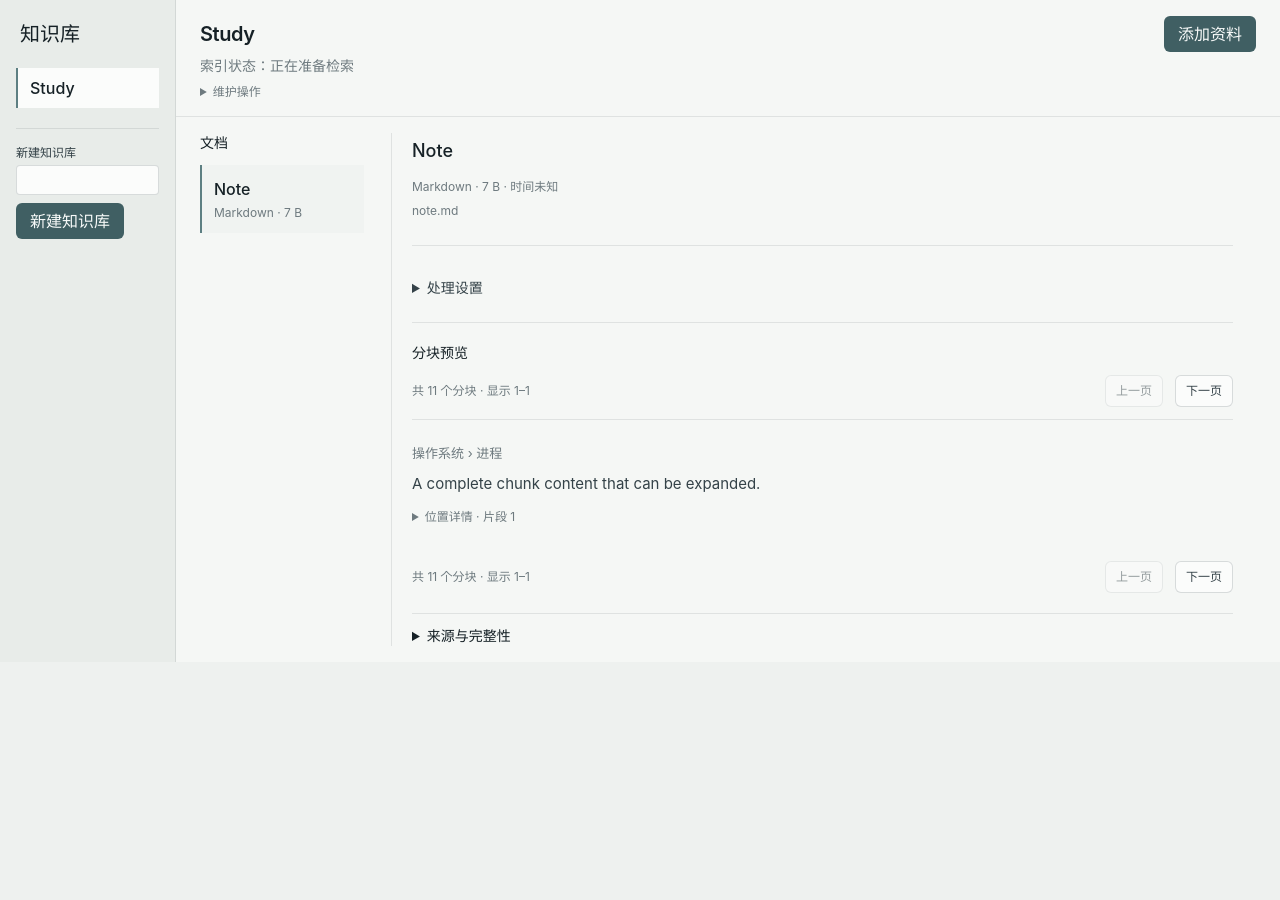
KnowledgePage processing bridge › paginates within the bounded range
The width and height of the screenshot is (1280, 900).
Click the 1st button "下一页": (1204, 391) [1175,375,1233,407]
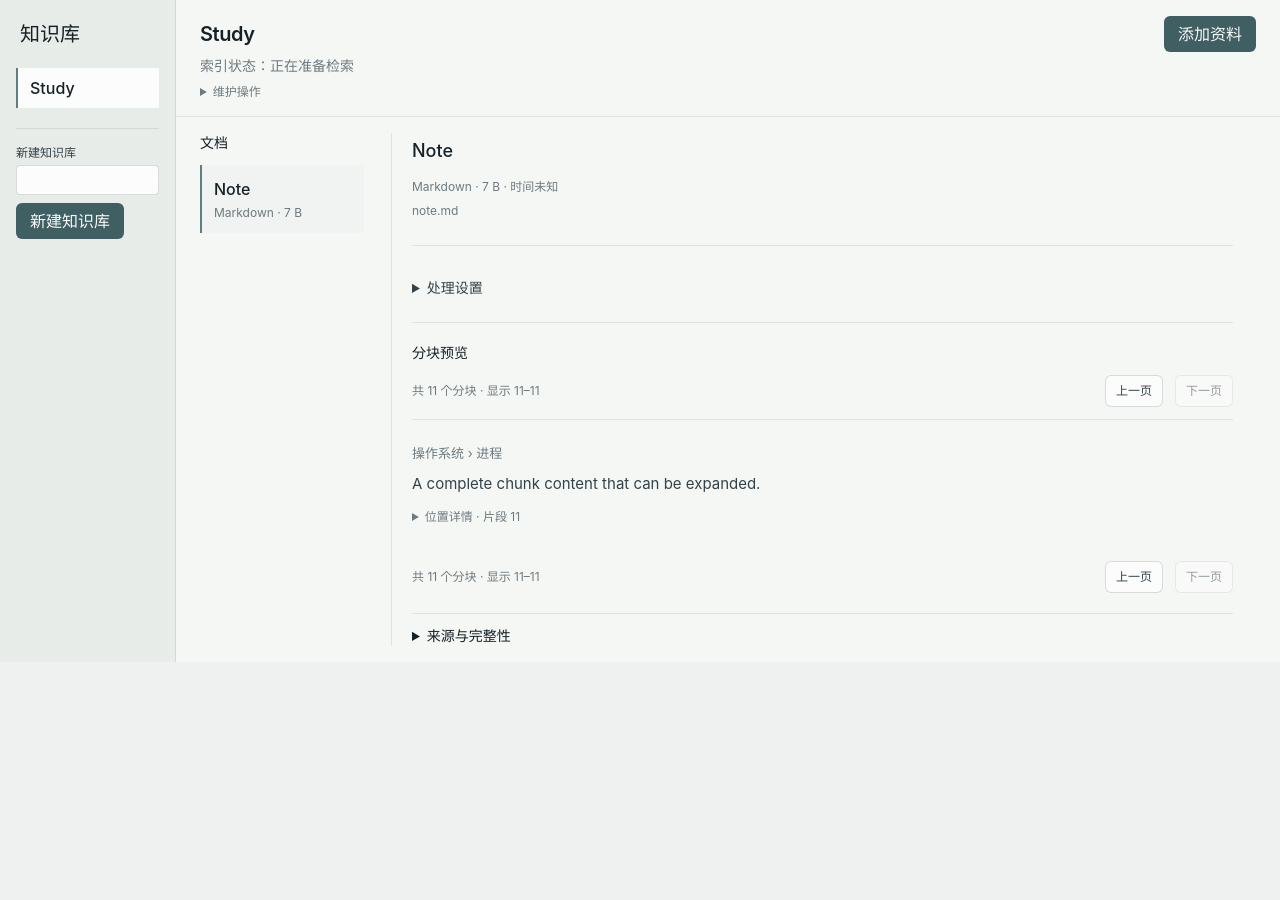
Now the text "显示 11–11" is shown, box [412,383,540,398]
Now the text "位置详情 · 片段 11" is shown, box [425,509,520,524]
Now the 1st button "下一页" is disabled, box [1175,375,1233,407]
